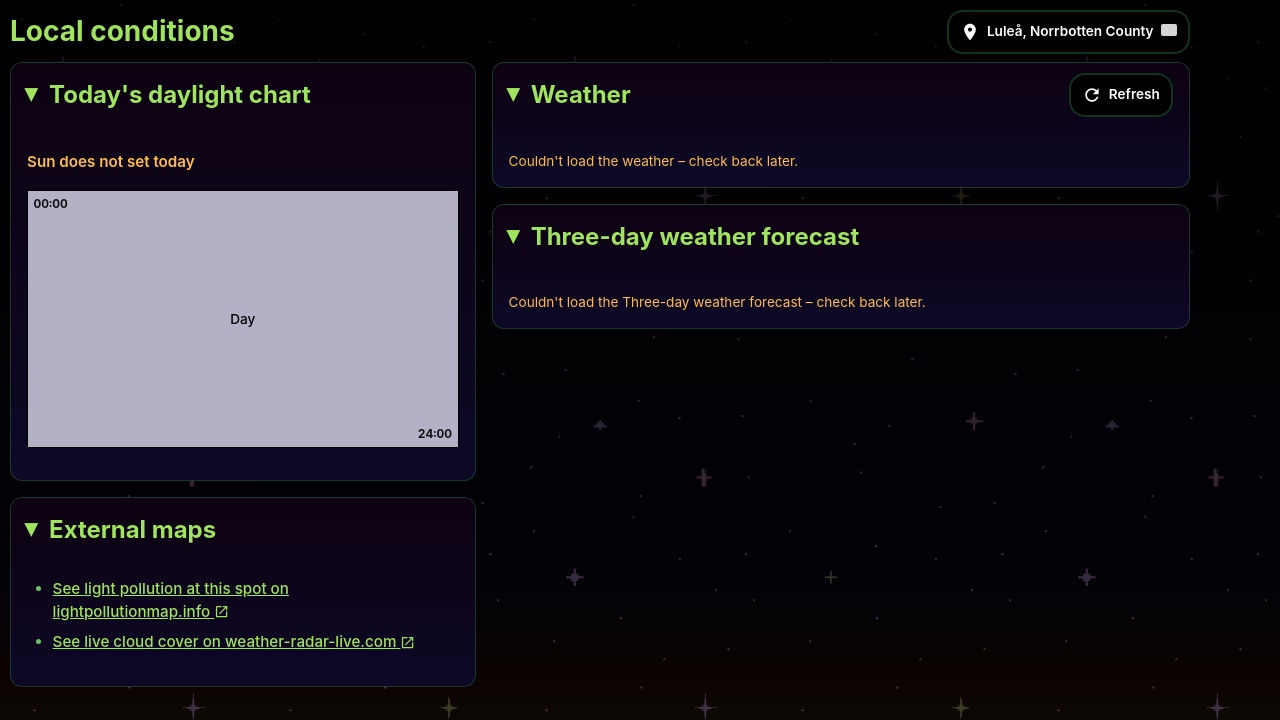
Scenario: Local conditions search (shared modal, ticket 02) › shows the no-match copy for an empty result
The image size is (1280, 720).
Click the button "Luleå, Norrbotten County". click: (1068, 32)
box: x1=946 y1=10 x2=1190 y2=54
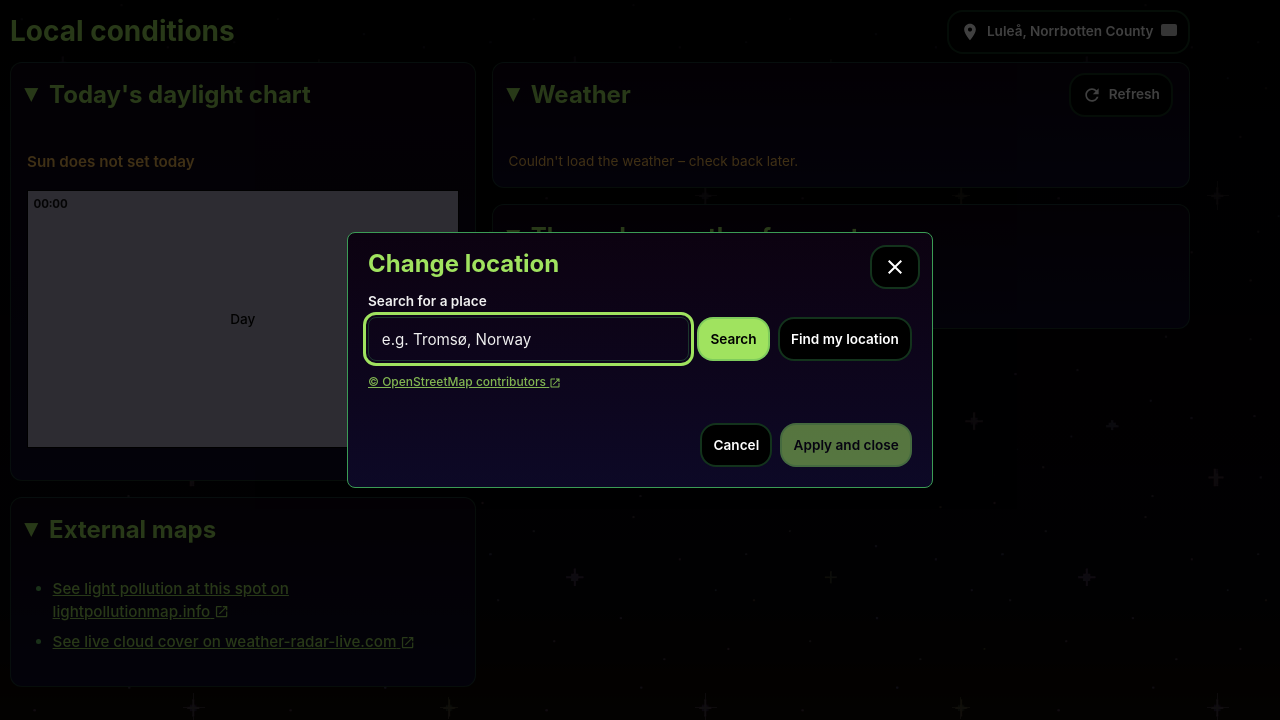
Type "zzz nowhere" into the search field labelled "Search for a place". click: (529, 339)
box: x1=368 y1=317 x2=689 y2=361
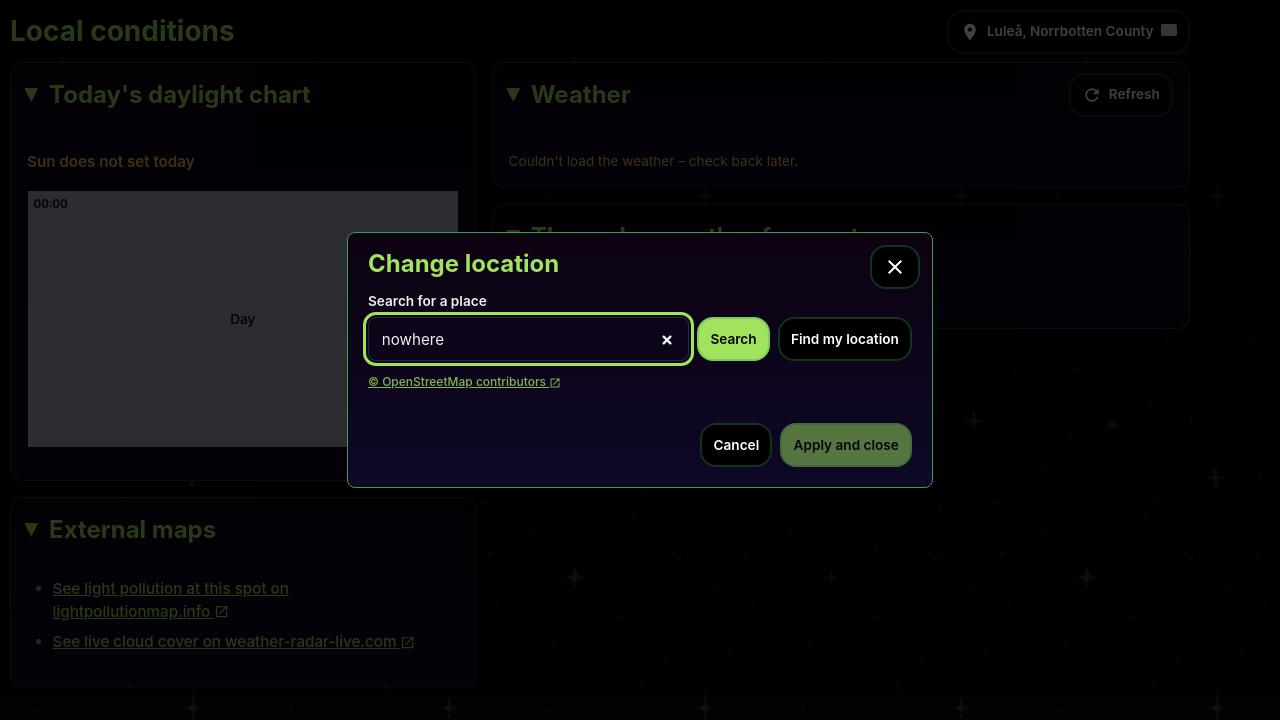
Press Enter
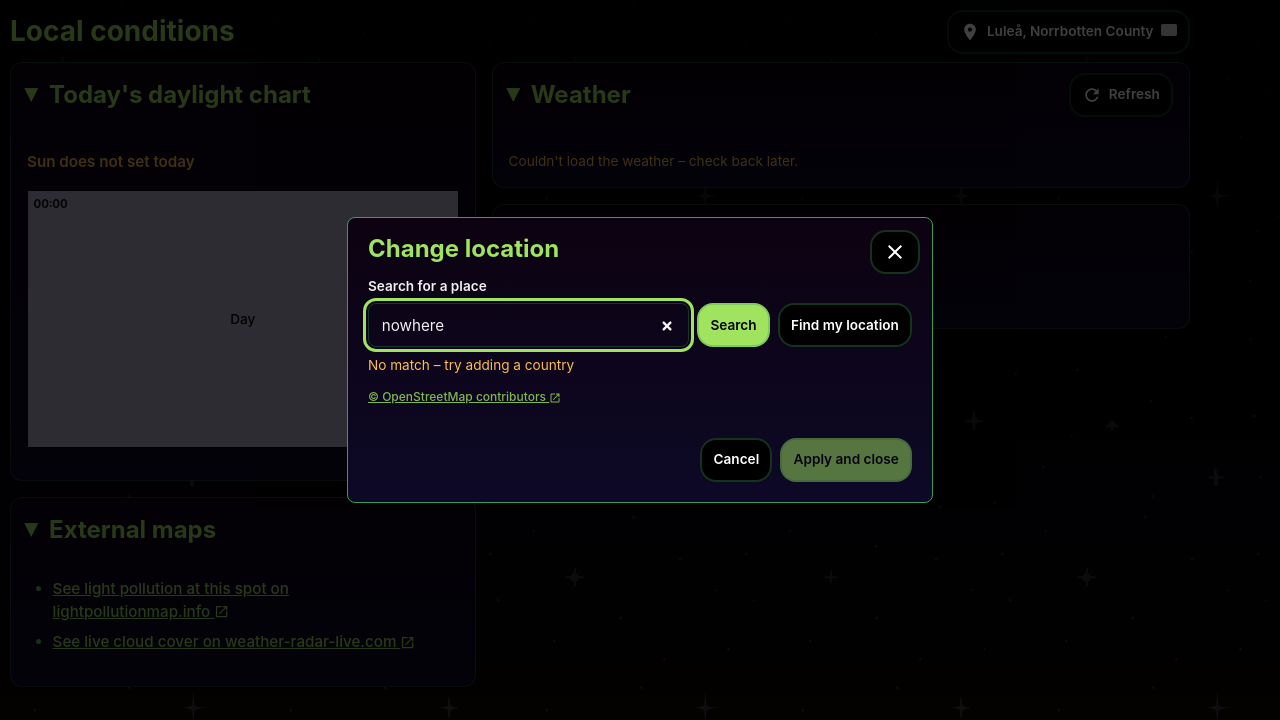
Result: the text "No match – try adding a country" is shown at x1=368 y1=357 x2=574 y2=373
